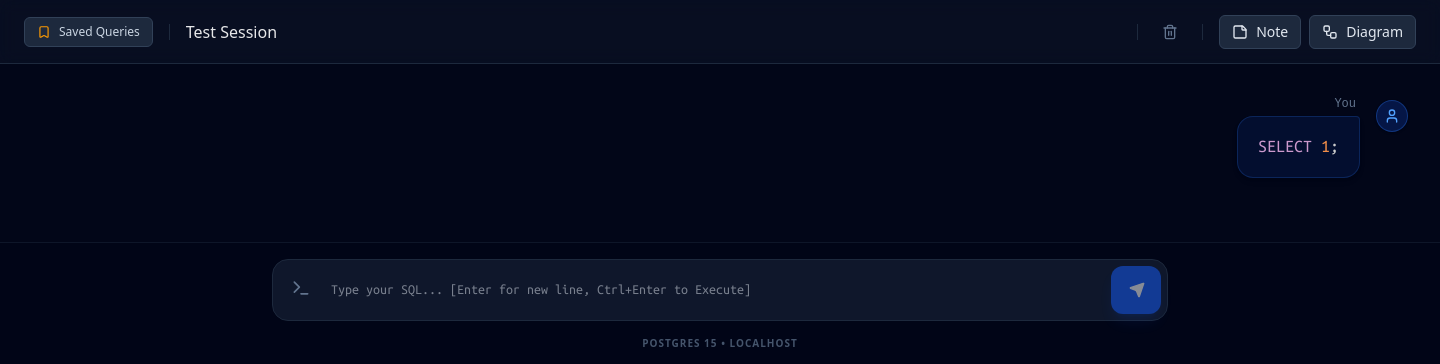
Test: ChatInterface › handles session renaming
Click the heading titled "Click to rename": (231, 32) [186,20,277,44]
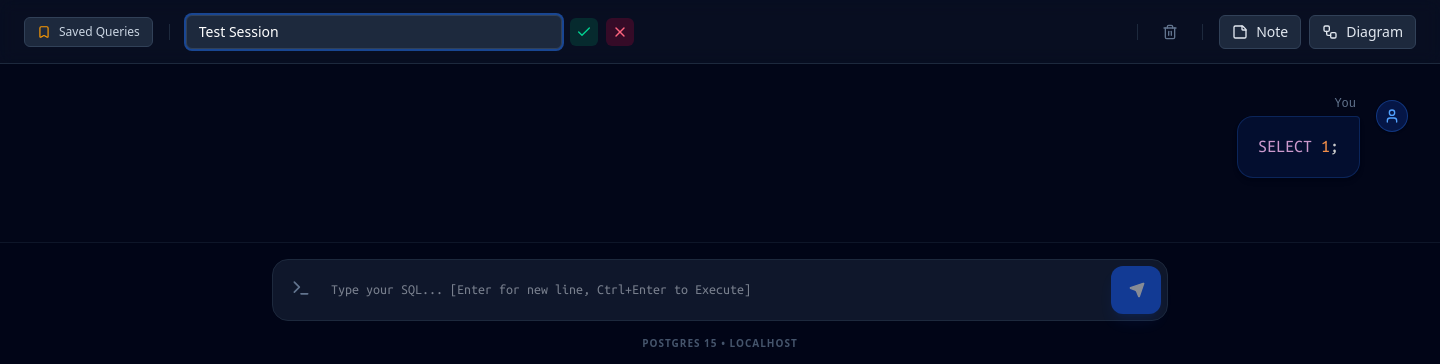
Replace the text in the field showing "Test Session" with "New Title": (374, 32) [186,14,562,48]
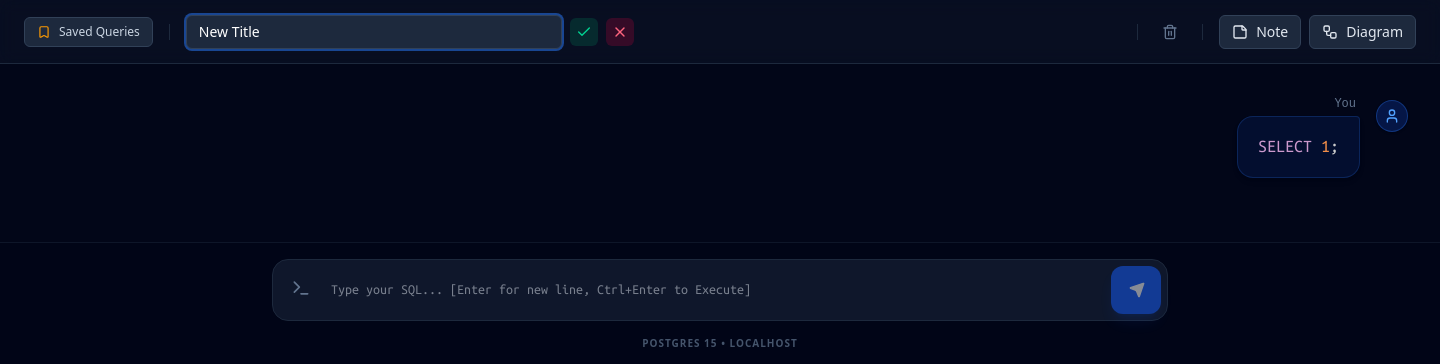
Click the button titled "Save": (584, 32) [570,18,598,46]
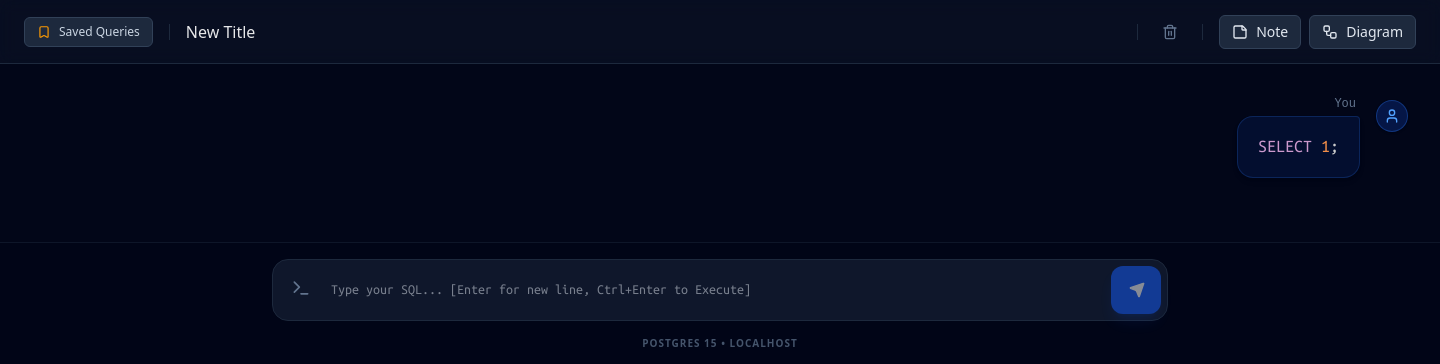
Check: the heading "New Title" is shown, box [186,20,255,44]
